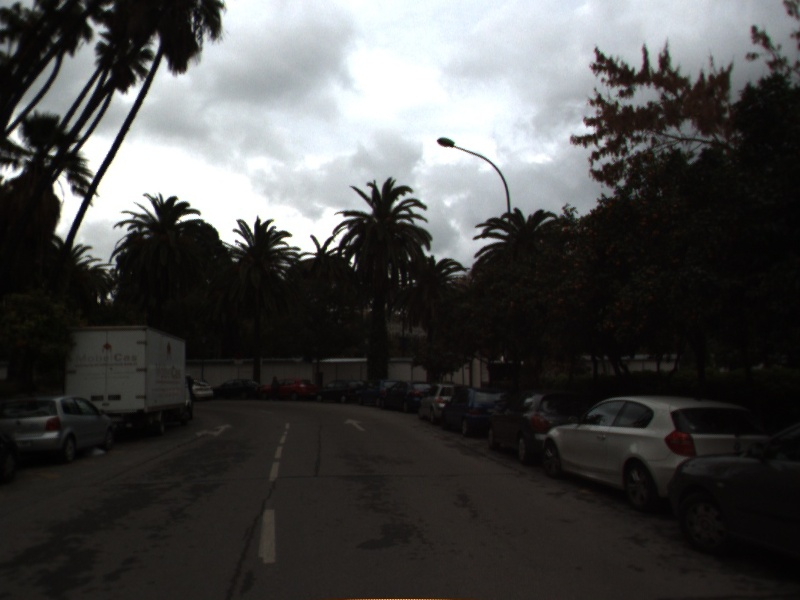STRAIGHT: (341, 416, 370, 433)
STRAIGHT_LEFT: (193, 421, 236, 440)
